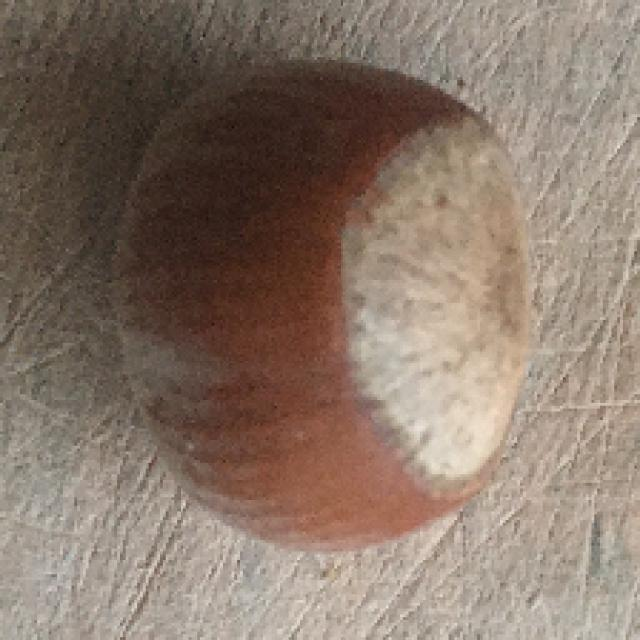qualityHazelnut: (108, 57, 543, 553)
